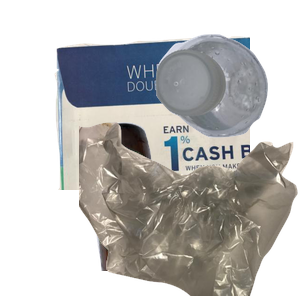glass: (88, 120, 252, 300)
paper: (52, 34, 292, 214)
plastic: (153, 31, 300, 161)
trash: (79, 120, 300, 300)
